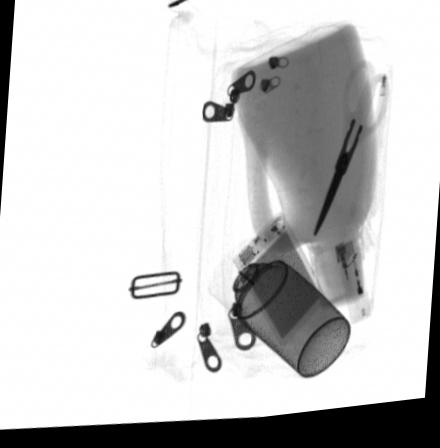Lighter: (331, 242, 374, 334)
Powerbank: (228, 216, 328, 358)
Scissors: (312, 71, 389, 247)
Sprayer: (203, 237, 352, 384)
